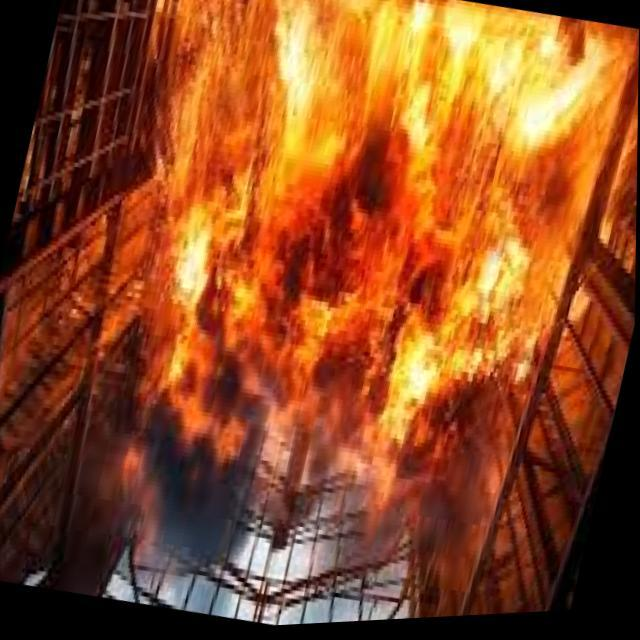fire: (65, 0, 640, 592)
